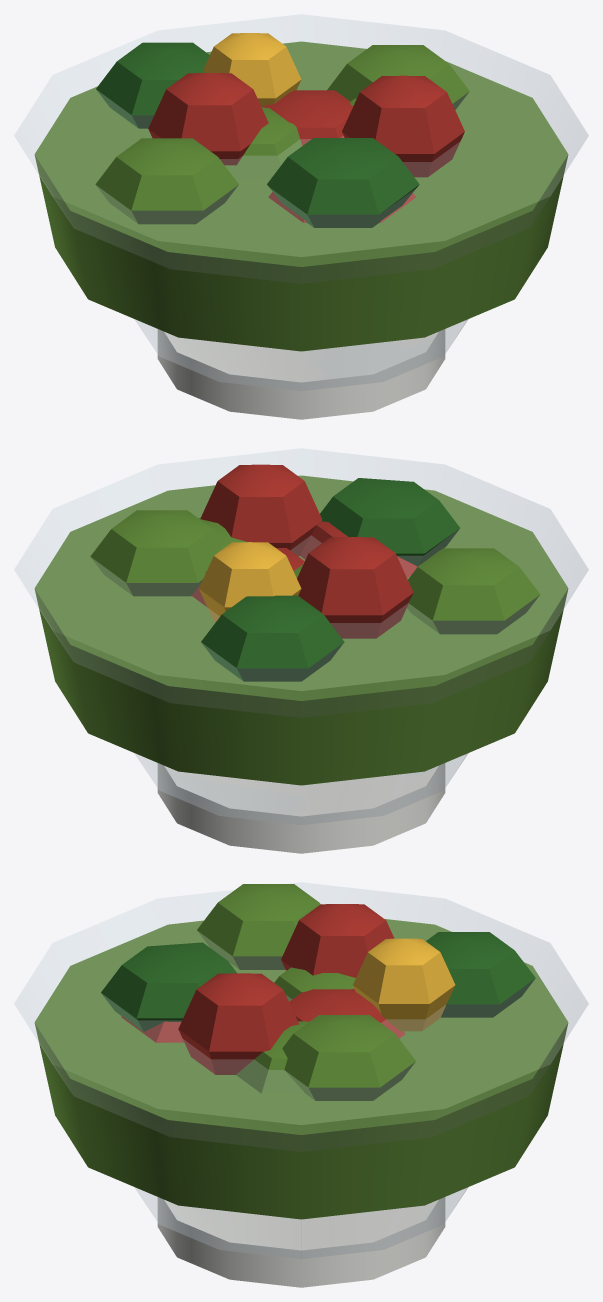
Rendered from tableware_salad.glb.
The picture shows the model from 3 angles, top to bottom: view 1: azimuth 30°, elevation 25°; view 2: azimuth 150°, elevation 25°; view 3: azimuth 270°, elevation 25°; orthographic projection.
Parts seen in each view (by area): view 1: tableware_salad; view 2: tableware_salad; view 3: tableware_salad.
Part boxes in pixels (box(x1,y1,x2,y2)): tableware_salad: box(14, 14, 588, 419); tableware_salad: box(14, 448, 588, 853); tableware_salad: box(14, 882, 588, 1287).
Size of the model in its own units: 0.28 by 0.155 by 0.28.
